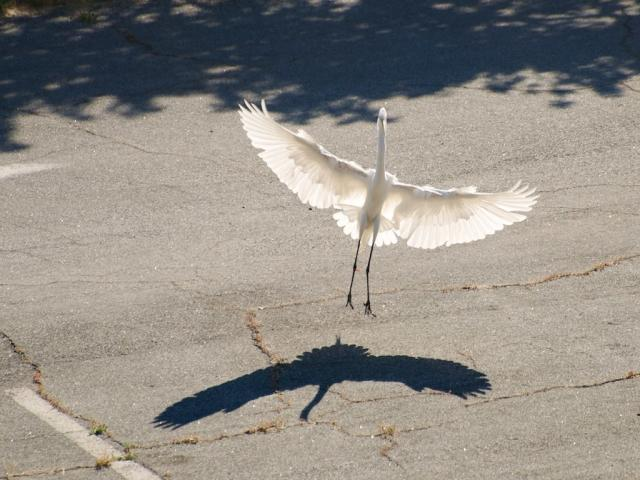Bird: (236, 102, 539, 318)
